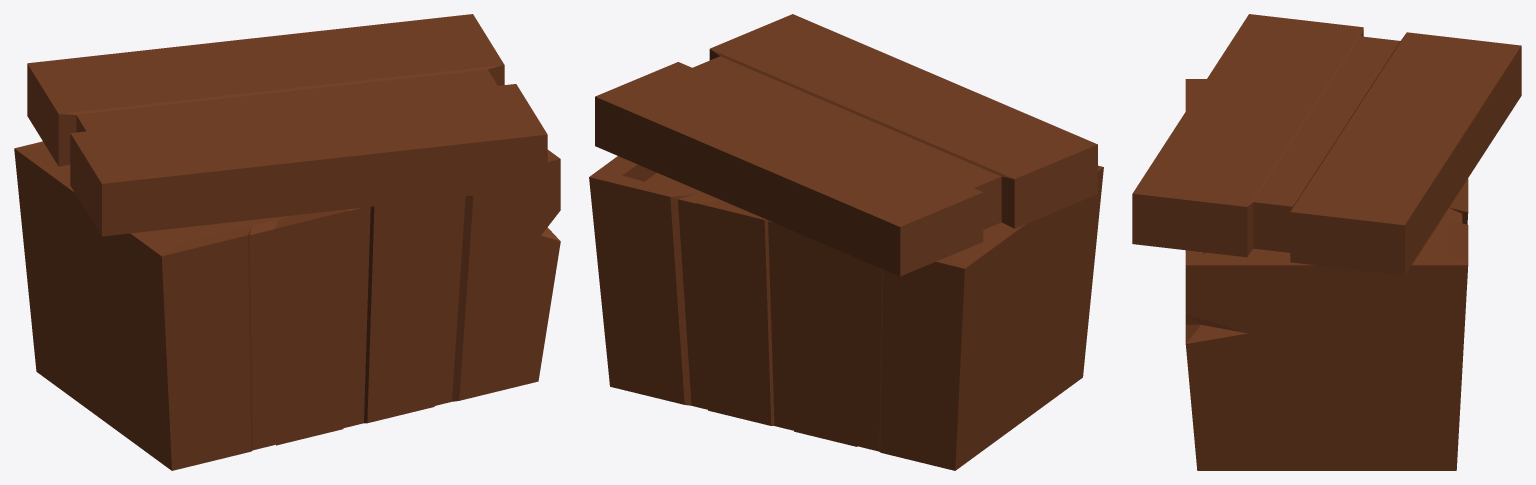
The model's file is SM_crate.fbx.
3 renders of one model, left to right at view 1: azimuth 30°, elevation 25°; view 2: azimuth 150°, elevation 25°; view 3: azimuth 270°, elevation 25°, orthographic. The views are drawn at different scales.
Parts seen in each view (by area): view 1: chest; view 2: chest; view 3: chest.
Boxes of the visible parts, x1,y1,x2,y2 form: chest: (14, 14, 560, 470); chest: (589, 14, 1103, 470); chest: (1132, 14, 1521, 470).
Bounding box in the file's own units: 76.15 × 44.97 × 59.26.
